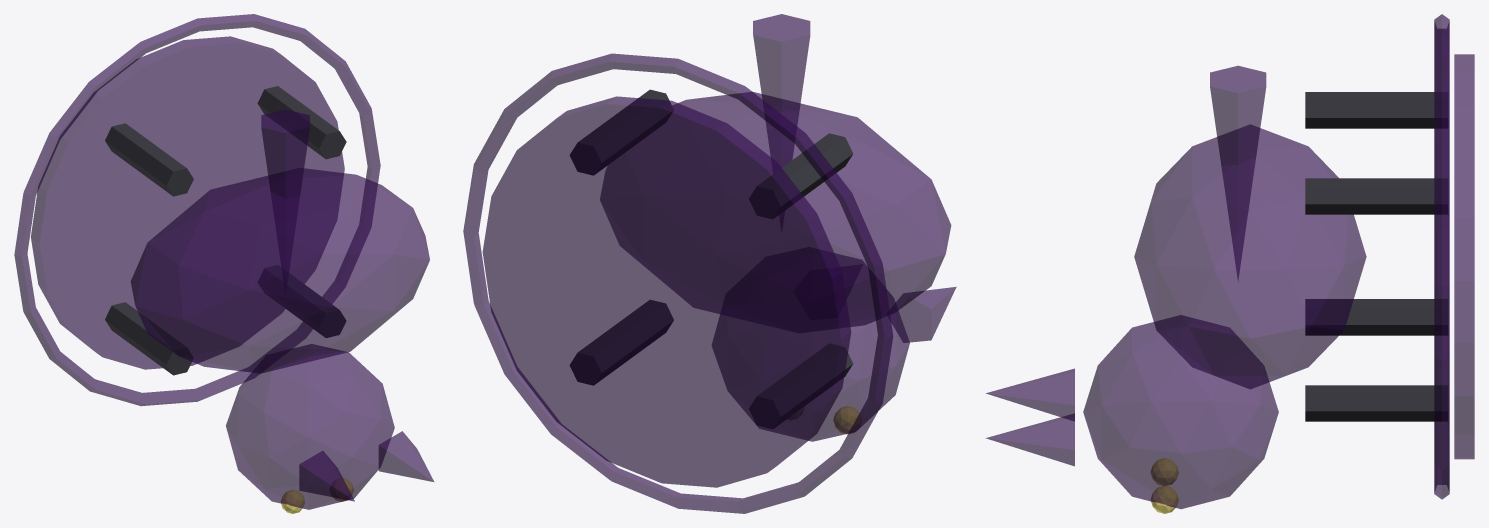
Rendered from 02_shadow_cat_familiar.glb.
3 renders of one model, left to right at view 1: azimuth 30°, elevation 25°; view 2: azimuth 150°, elevation 25°; view 3: azimuth 270°, elevation 25°, orthographic. The views are drawn at different scales.
Visible parts, largest first — view 1: base_disc, body, head, base_ring, tail, leg_bl, leg_br, leg_fl, leg_fr, ear_r, ear_l; view 2: base_disc, body, base_ring, head, tail, leg_bl, leg_br, leg_fl, leg_fr, ear_l; view 3: body, head, base_disc, base_ring, tail, leg_fl, leg_fr, leg_bl, leg_br, ear_r, ear_l, eye_r (+1 smaller).
Boxes of the visible parts, bbox=[...] form: base_disc: bbox=[31, 36, 344, 369]; body: bbox=[130, 168, 429, 373]; head: bbox=[226, 344, 394, 509]; base_ring: bbox=[14, 14, 380, 406]; tail: bbox=[261, 109, 309, 294]; leg_bl: bbox=[105, 123, 193, 196]; leg_br: bbox=[257, 86, 346, 159]; leg_fl: bbox=[105, 302, 193, 375]; leg_fr: bbox=[258, 265, 346, 337]; ear_r: bbox=[378, 431, 433, 481]; ear_l: bbox=[299, 451, 354, 501]; base_disc: bbox=[482, 96, 851, 487]; body: bbox=[600, 92, 951, 332]; base_ring: bbox=[463, 53, 893, 513]; head: bbox=[712, 253, 909, 441]; tail: bbox=[753, 14, 810, 166]; leg_bl: bbox=[749, 133, 853, 218]; leg_br: bbox=[570, 89, 673, 175]; leg_fl: bbox=[749, 343, 853, 428]; leg_fr: bbox=[570, 300, 673, 385]; ear_l: bbox=[890, 287, 956, 342]; body: bbox=[1134, 124, 1366, 389]; head: bbox=[1083, 315, 1278, 508]; base_disc: bbox=[1454, 54, 1474, 459]; base_ring: bbox=[1434, 14, 1449, 499]; tail: bbox=[1210, 65, 1266, 279]; leg_fl: bbox=[1305, 299, 1447, 335]; leg_fr: bbox=[1305, 385, 1447, 421]; leg_bl: bbox=[1305, 92, 1447, 128]; leg_br: bbox=[1305, 178, 1447, 214]; ear_r: bbox=[986, 413, 1074, 466]; ear_l: bbox=[986, 368, 1074, 420]; eye_r: bbox=[1151, 486, 1178, 513].
Size of the model in its own units: 1.2 by 1.26 by 1.2.
